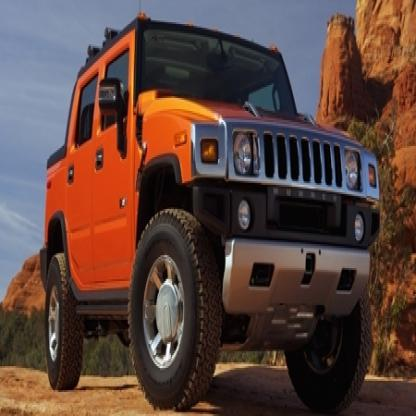Vehicle: (16, 2, 410, 414)
